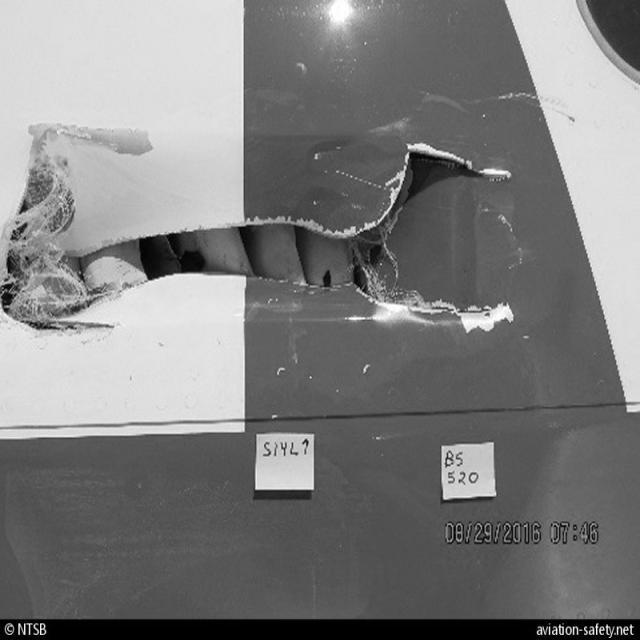crack: (393, 287, 514, 344)
